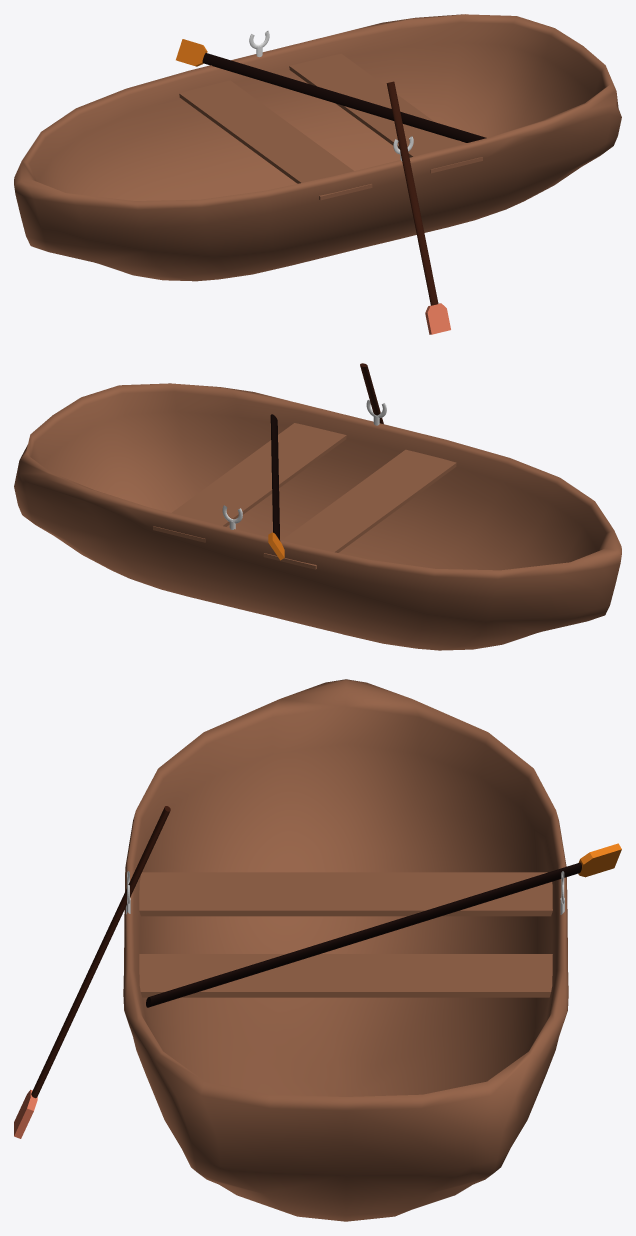
File: Boat.fbx
3 views of the same model, one above another, from view 1: azimuth 30°, elevation 25°; view 2: azimuth 150°, elevation 25°; view 3: azimuth 270°, elevation 25° (orthographic). The views are drawn at different scales.
Visible parts, largest first — view 1: Sphere, Cube, Cube.001, Cylinder.003, Cylinder.002, Cube.002, Cube.003; view 2: Sphere, Cube, Cube.001, Cylinder.003, Cylinder.002; view 3: Sphere, Cube, Cube.001, Cylinder.003, Cylinder.002, Cube.003.
Boxes of the visible parts, left/top/right/bottom form: Sphere: left=14, top=14, right=621, bottom=281; Cube: left=179, top=80, right=372, bottom=200; Cube.001: left=289, top=53, right=482, bottom=173; Cylinder.003: left=202, top=53, right=486, bottom=142; Cylinder.002: left=386, top=81, right=438, bottom=305; Cube.002: left=425, top=303, right=450, bottom=334; Cube.003: left=176, top=39, right=207, bottom=66; Sphere: left=14, top=383, right=621, bottom=650; Cube: left=263, top=449, right=456, bottom=569; Cube.001: left=153, top=423, right=346, bottom=542; Cylinder.003: left=270, top=414, right=279, bottom=540; Cylinder.002: left=360, top=363, right=383, bottom=423; Sphere: left=123, top=679, right=568, bottom=1221; Cube: left=125, top=872, right=552, bottom=916; Cube.001: left=139, top=954, right=552, bottom=997; Cylinder.003: left=146, top=862, right=581, bottom=1007; Cylinder.002: left=31, top=806, right=170, bottom=1098; Cube.003: left=578, top=843, right=621, bottom=877.
Bounding box in the file's own units: 282 × 102 × 173.
